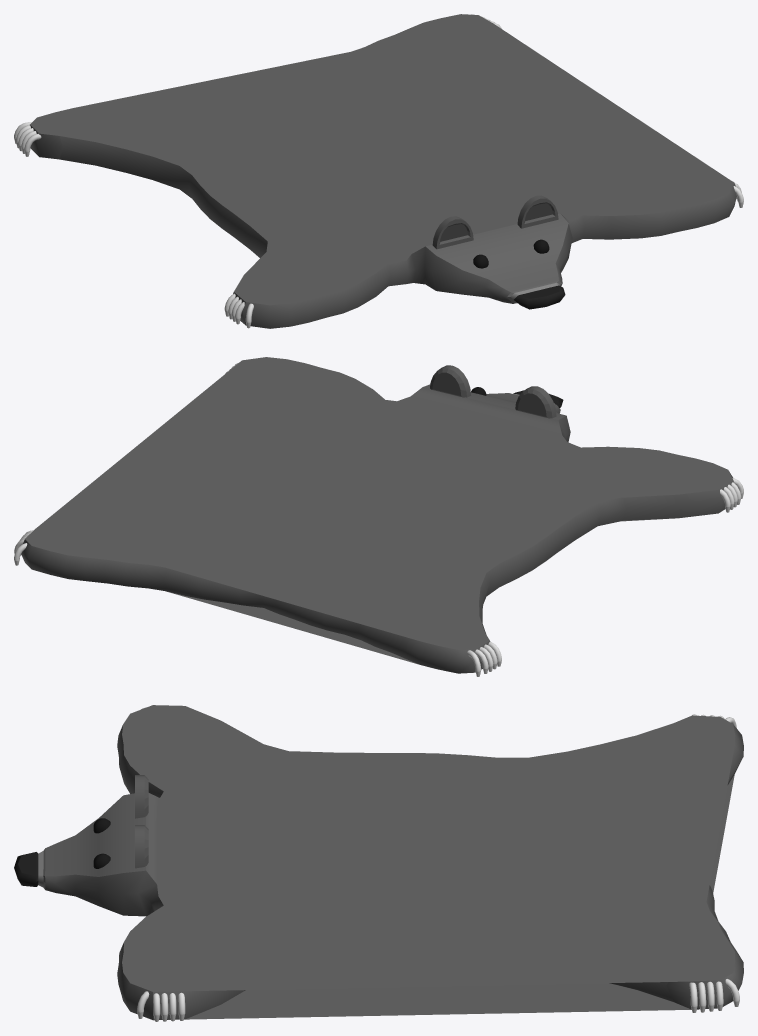
File: BearRugModel.fbx
The picture shows the model from 3 angles, top to bottom: view 1: azimuth 30°, elevation 25°; view 2: azimuth 150°, elevation 25°; view 3: azimuth 270°, elevation 25°; orthographic projection. The views are drawn at different scales.
Visible parts, largest first — view 1: BearRugModel; view 2: BearRugModel; view 3: BearRugModel.
Part boxes in pixels (x1,y1,x2,y2): BearRugModel: (14, 14, 743, 328); BearRugModel: (14, 357, 743, 676); BearRugModel: (14, 705, 743, 1021).
Size of the model in its own units: 204 by 23.94 by 212.
